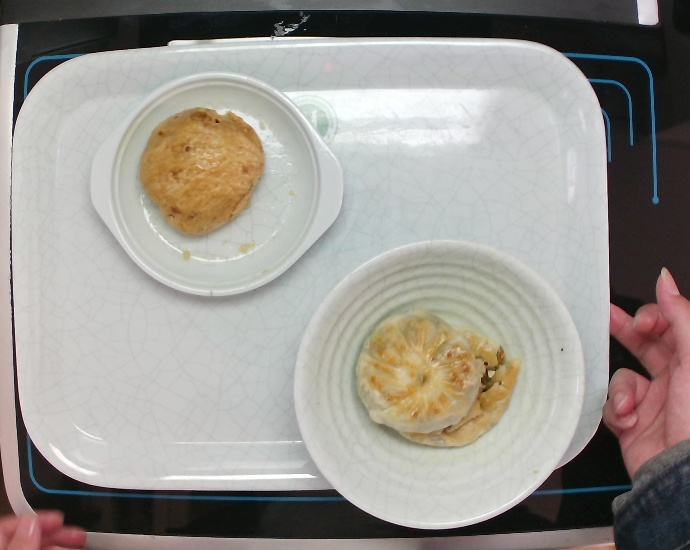JYsf-Shuang_Er_Pan: (85, 69, 347, 300)
JYsf-Xiao_Tang_Wan: (278, 236, 592, 550)
